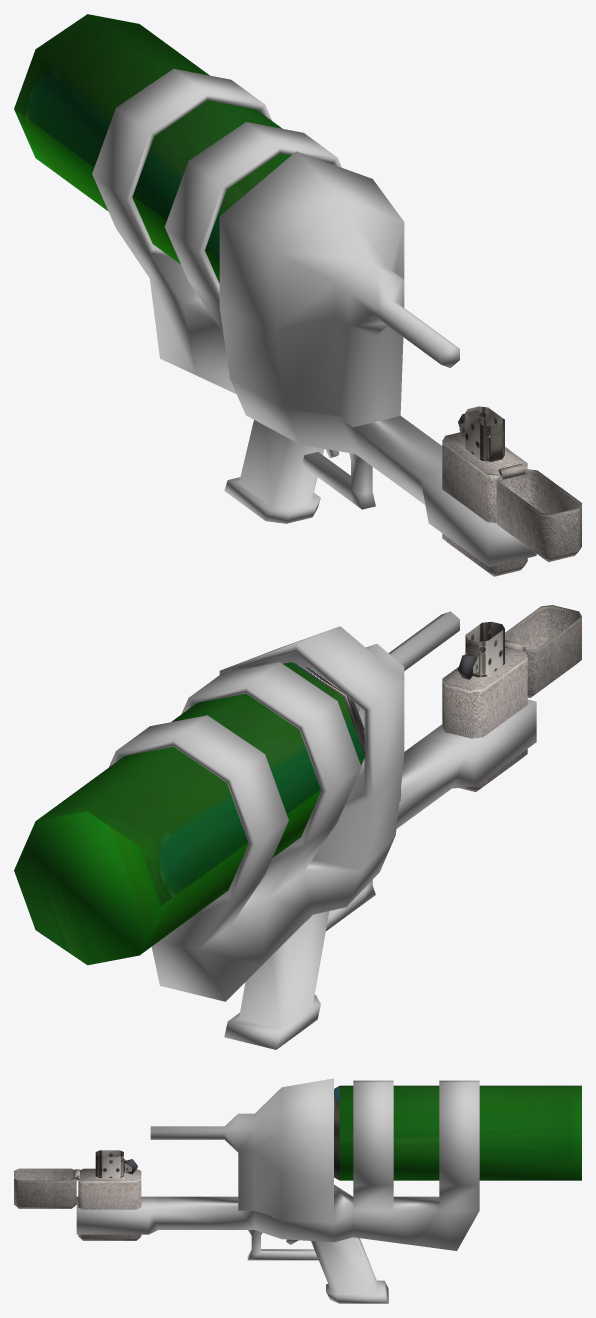
Rendered from Flamethrower.fbx.
3 views of the same model, one above another, from view 1: azimuth 30°, elevation 25°; view 2: azimuth 150°, elevation 25°; view 3: azimuth 270°, elevation 25° (orthographic). The views are drawn at different scales.
Parts seen in each view (by area): view 1: Flamethrower; view 2: Flamethrower; view 3: Flamethrower.
Boxes of the visible parts, x1,y1,x2,y2 form: Flamethrower: (14, 14, 581, 576); Flamethrower: (14, 605, 581, 1049); Flamethrower: (14, 1078, 581, 1303).
Size of the model in its own units: 0.1751 by 0.3765 by 0.8896.
